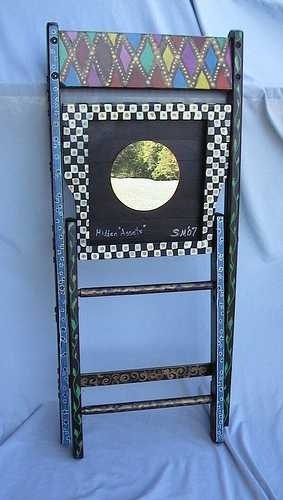obstacle: (47, 23, 242, 457)
